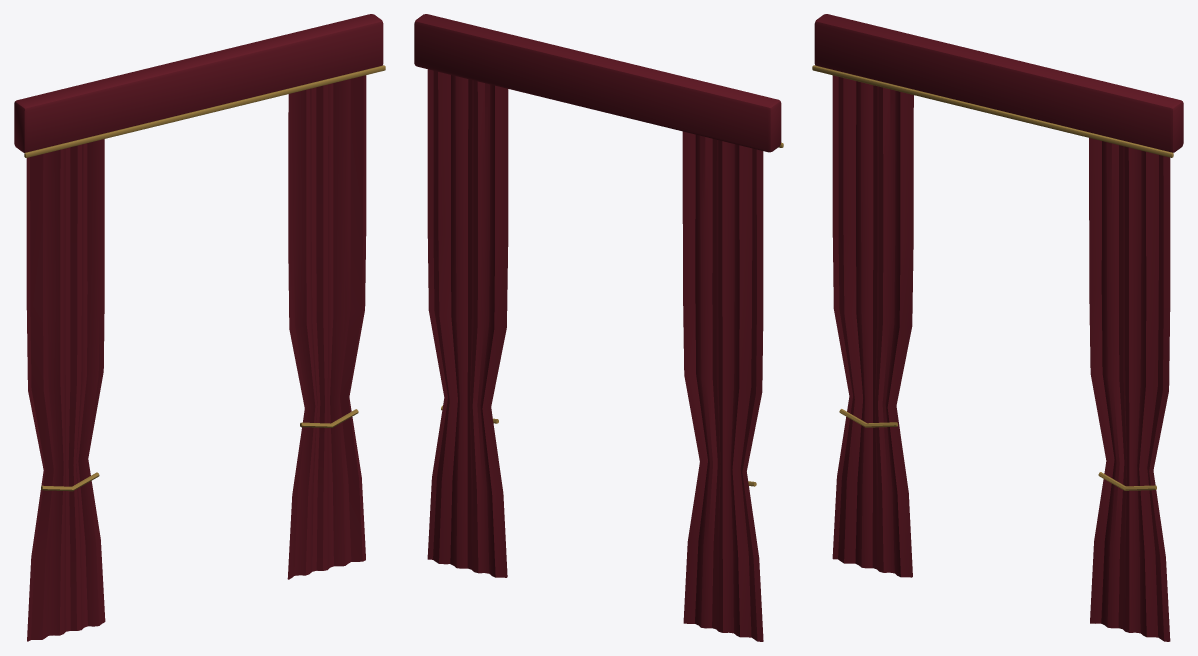
Rendered from drapes.glb.
3 views of the same model, side by side, from view 1: azimuth 30°, elevation 25°; view 2: azimuth 150°, elevation 25°; view 3: azimuth 330°, elevation 25° (orthographic).
Visible parts, largest first — view 1: drapes; view 2: drapes; view 3: drapes.
Boxes of the visible parts, bbox=[...] form: drapes: bbox=[14, 14, 385, 641]; drapes: bbox=[414, 14, 783, 641]; drapes: bbox=[812, 14, 1183, 641].
Bounding box in the file's own units: 3.2 × 4.6 × 0.2.
